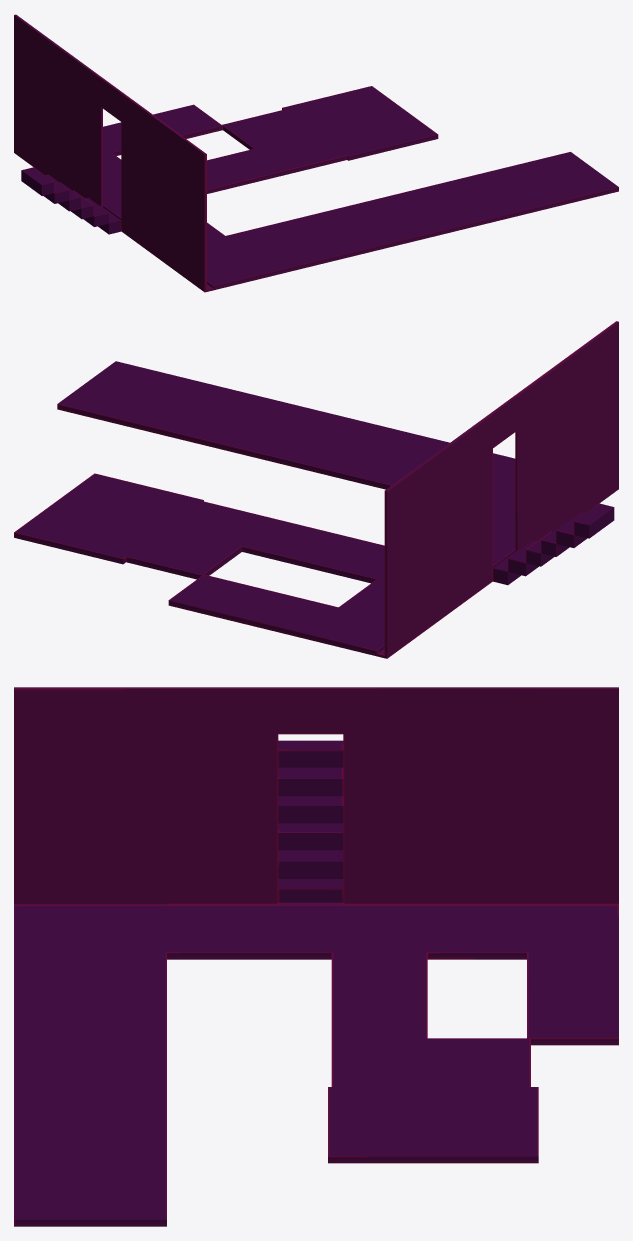
File: labe.fbx
3 renders of one model, top to bottom at view 1: azimuth 30°, elevation 25°; view 2: azimuth 150°, elevation 25°; view 3: azimuth 270°, elevation 25°, orthographic. The views are drawn at different scales.
Visible parts, largest first — view 1: labe.001; view 2: labe.001; view 3: labe.001.
Boxes of the visible parts, x1,y1,x2,y2 form: labe.001: (14,14,618,292); labe.001: (14,321,618,658); labe.001: (14,687,618,1226).
Size of the model in its own units: 23.6 by 6.3 by 15.8.
Materials: 1 (1 with a texture image).
